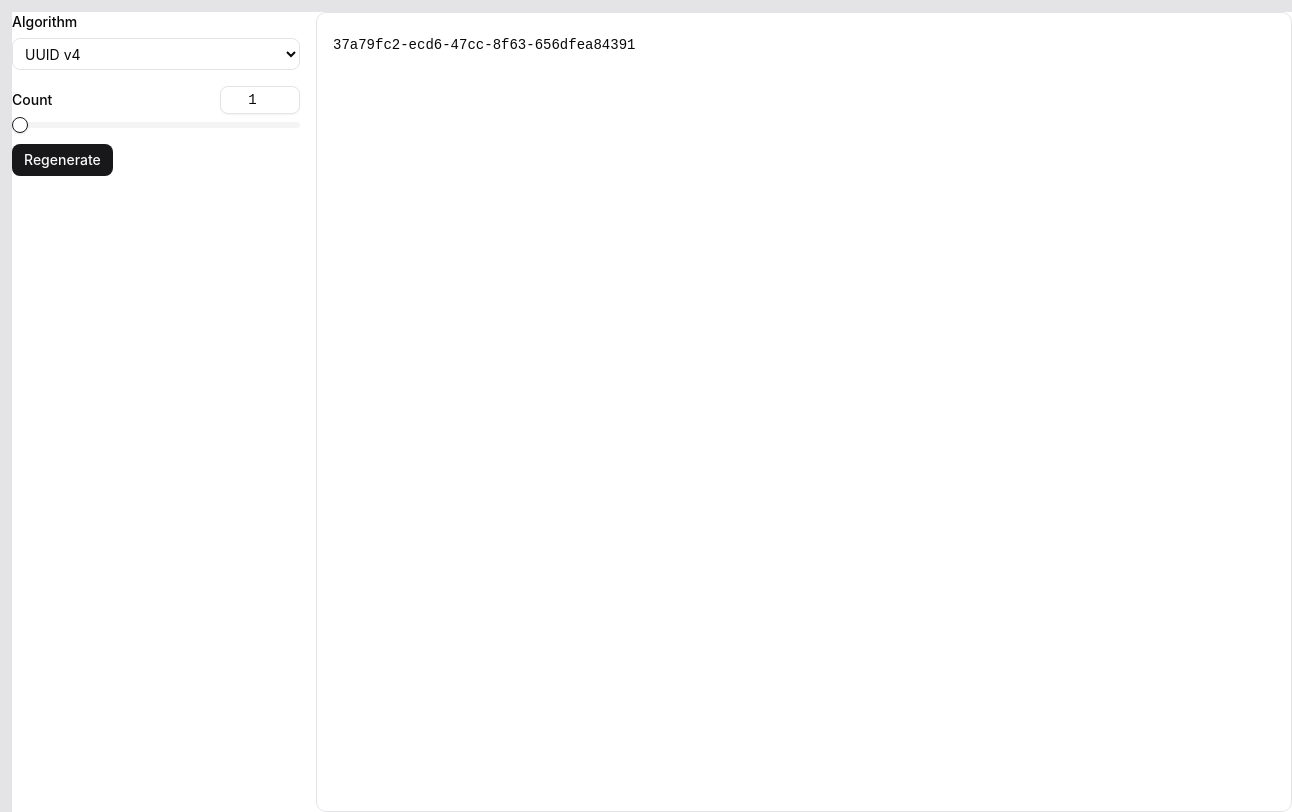
it: v3 algorithm shows namespace and name inputs
This screenshot has width=1292, height=812.
Select "UUID v3" in the dropdown at (156, 54), box [12,38,300,70]
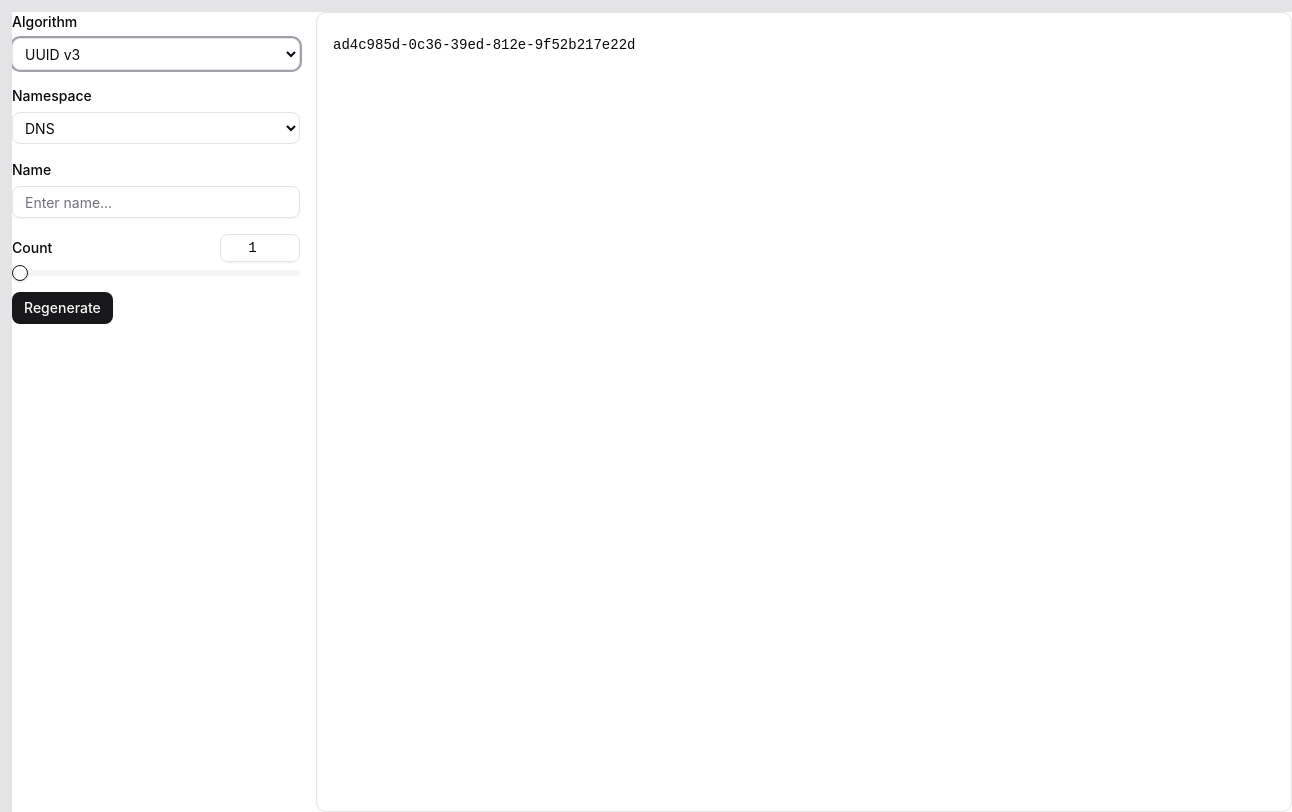
Expected: the text "Namespace" is shown, [12,87,92,104]
Expected: the text "Name" is shown, [12,161,51,178]
